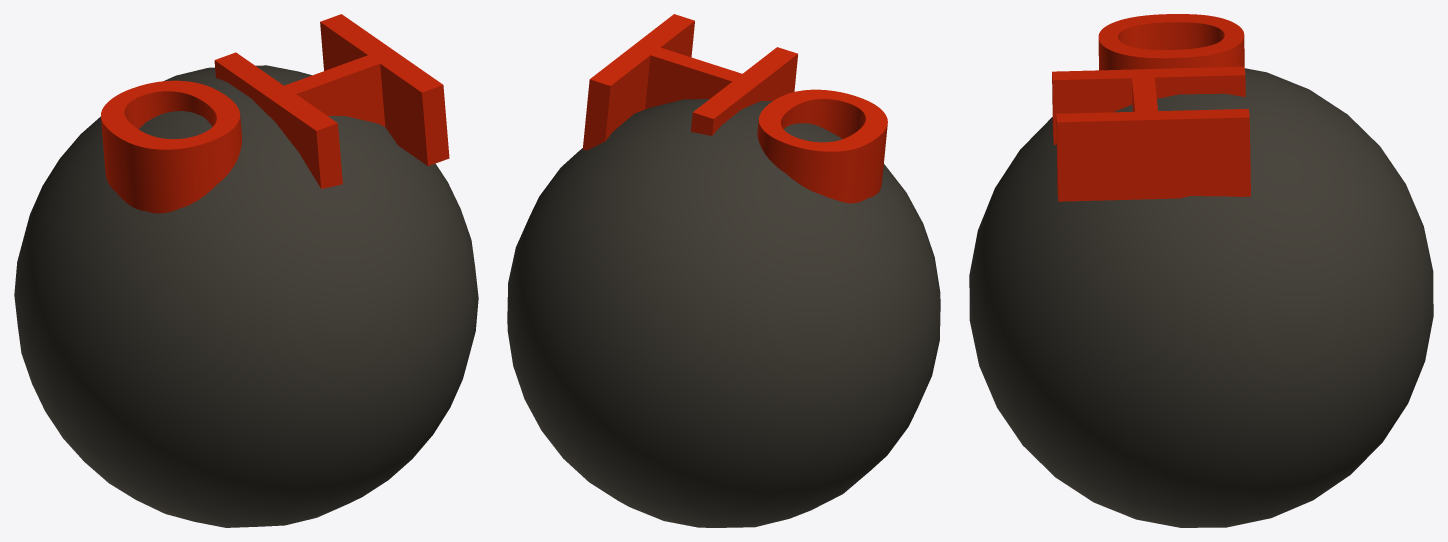
3 views of the same model, side by side, from view 1: azimuth 30°, elevation 25°; view 2: azimuth 150°, elevation 25°; view 3: azimuth 270°, elevation 25° (orthographic). The views are drawn at different scales.
Visible parts, largest first — view 1: Ho; view 2: Ho; view 3: Ho.
Part boxes in pixels (<box>): Ho: <box>14,14,478,527</box>; Ho: <box>507,14,940,527</box>; Ho: <box>969,14,1433,527</box>.
Bounding box in the file's own units: 38.63 × 40.96 × 38.6.
